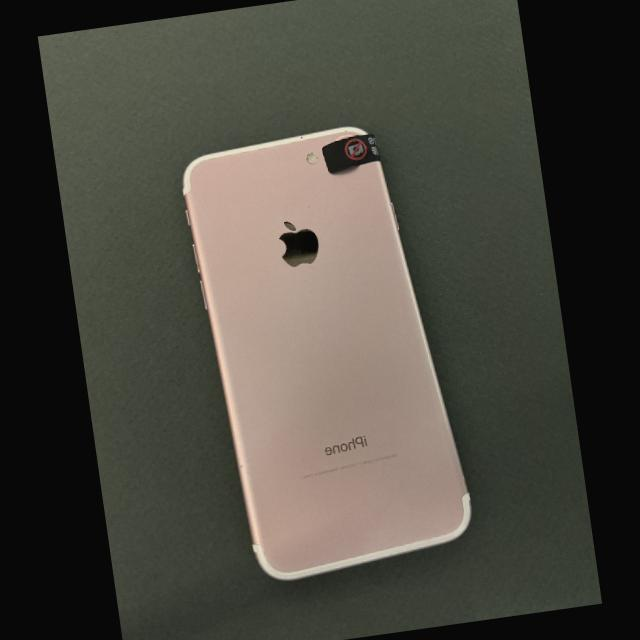phone: (184, 128, 470, 579)
sticker: (322, 134, 380, 174)
